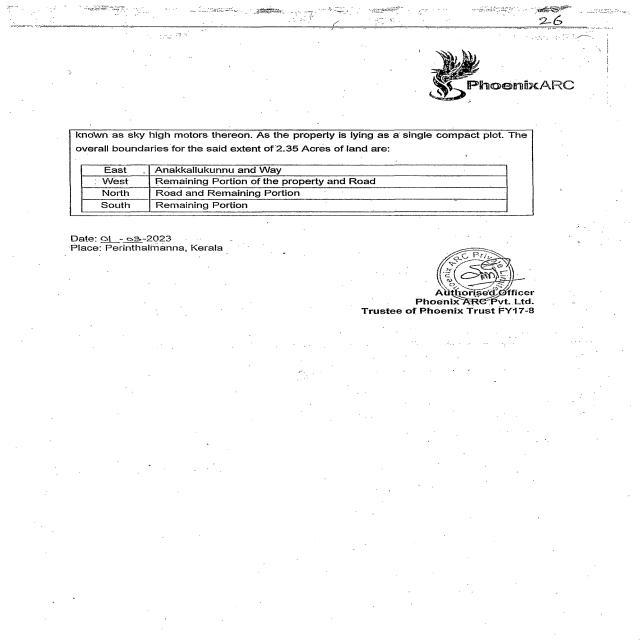page-number: (477, 0, 640, 26)
